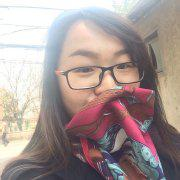WRONG: (62, 43, 150, 131)
